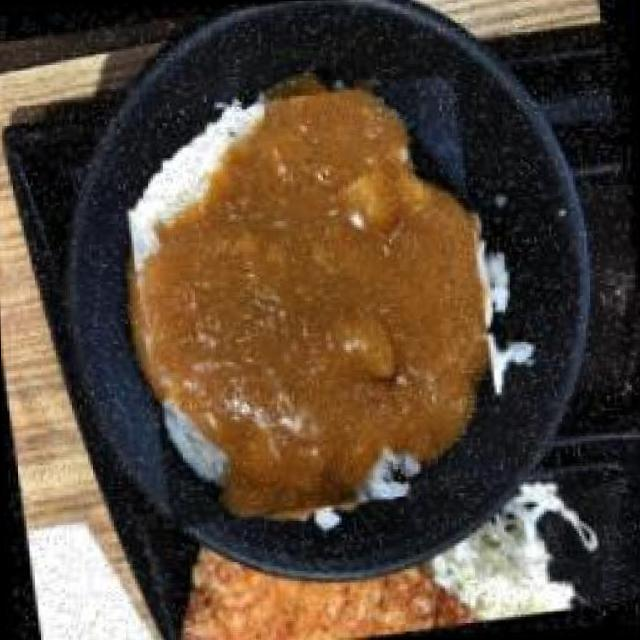curry: (113, 71, 511, 531)
